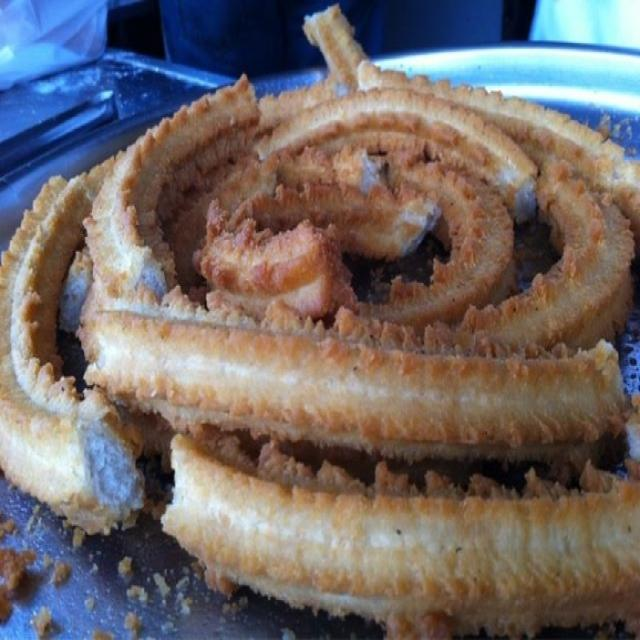炸货点心: (3, 24, 616, 610)
